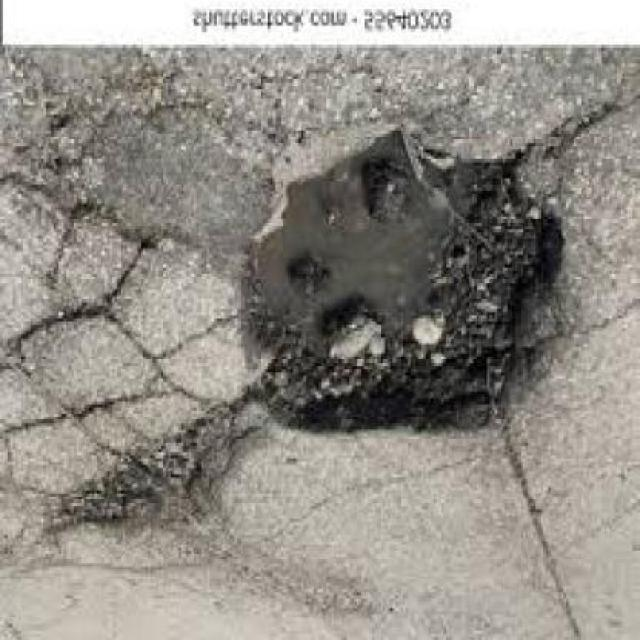pothole: (234, 118, 564, 448)
